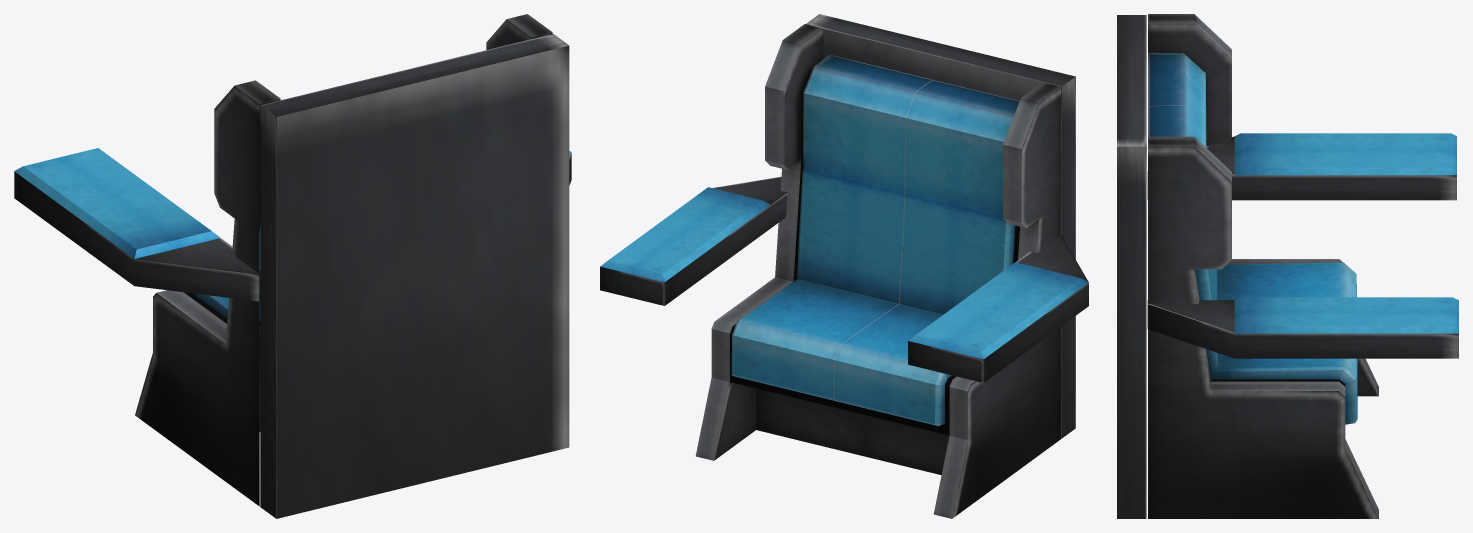
File: Seat.FBX
The picture shows the model from 3 angles, left to right: view 1: azimuth 30°, elevation 25°; view 2: azimuth 150°, elevation 25°; view 3: azimuth 270°, elevation 25°; orthographic projection. The views are drawn at different scales.
Parts seen in each view (by area): view 1: Box001, LabChair001, Box003; view 2: LabChair001, Box003, Box001, Box002; view 3: LabChair001, Box002, Box003, Box001.
Part boxes in pixels (x1,y1,x2,y2): Box001: (260,34,569,518); LabChair001: (135,14,552,506); Box003: (14,148,260,301); LabChair001: (695,24,1061,518); Box003: (908,235,1088,382); Box001: (806,14,1075,438); Box002: (600,176,787,305); LabChair001: (1148,14,1378,518); Box002: (1147,297,1458,358); Box003: (1147,133,1456,200); Box001: (1117,15,1146,518).
Bounding box in the file's own units: 0.3334 × 0.2934 × 0.2439.
1 material, 1 textured.
